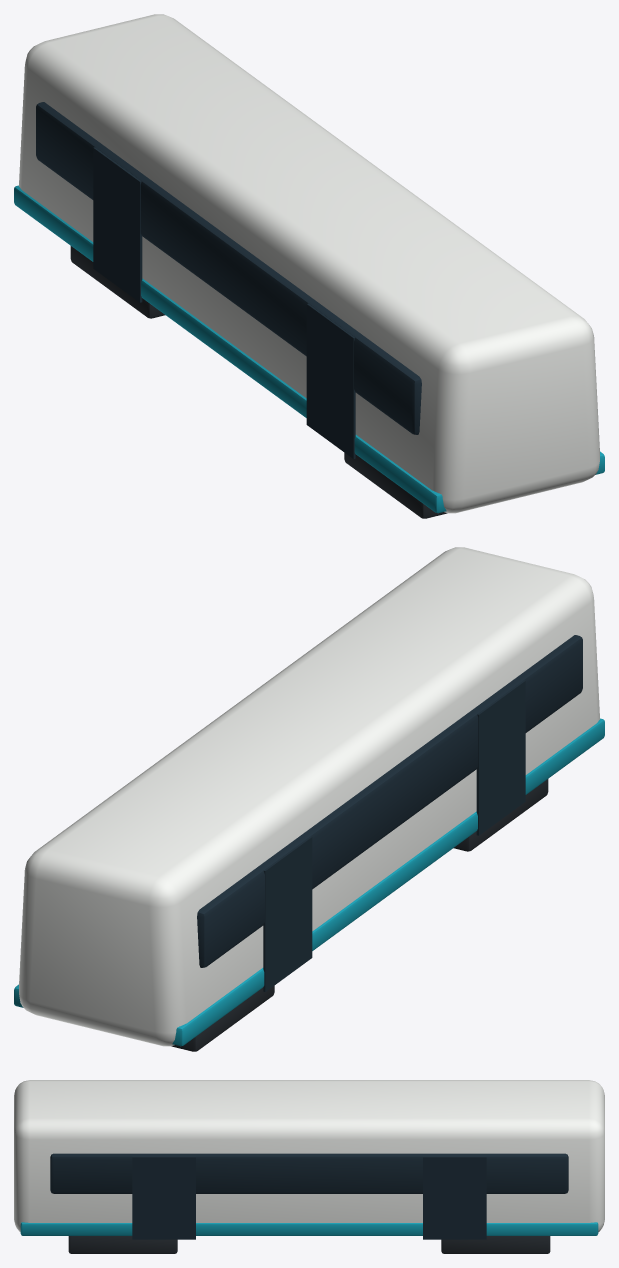
Rendered from sky_car.glb.
3 renders of one model, top to bottom at view 1: azimuth 30°, elevation 25°; view 2: azimuth 150°, elevation 25°; view 3: azimuth 270°, elevation 25°, orthographic. The views are drawn at different scales.
Parts seen in each view (by area): view 1: prism; view 2: prism; view 3: prism.
Part boxes in pixels (x1=…): prism: x1=14, y1=14, x2=604, y2=518; prism: x1=14, y1=547, x2=604, y2=1051; prism: x1=14, y1=1080, x2=604, y2=1253.
Bounding box in the file's own units: 2.98 × 3.25 × 13.
